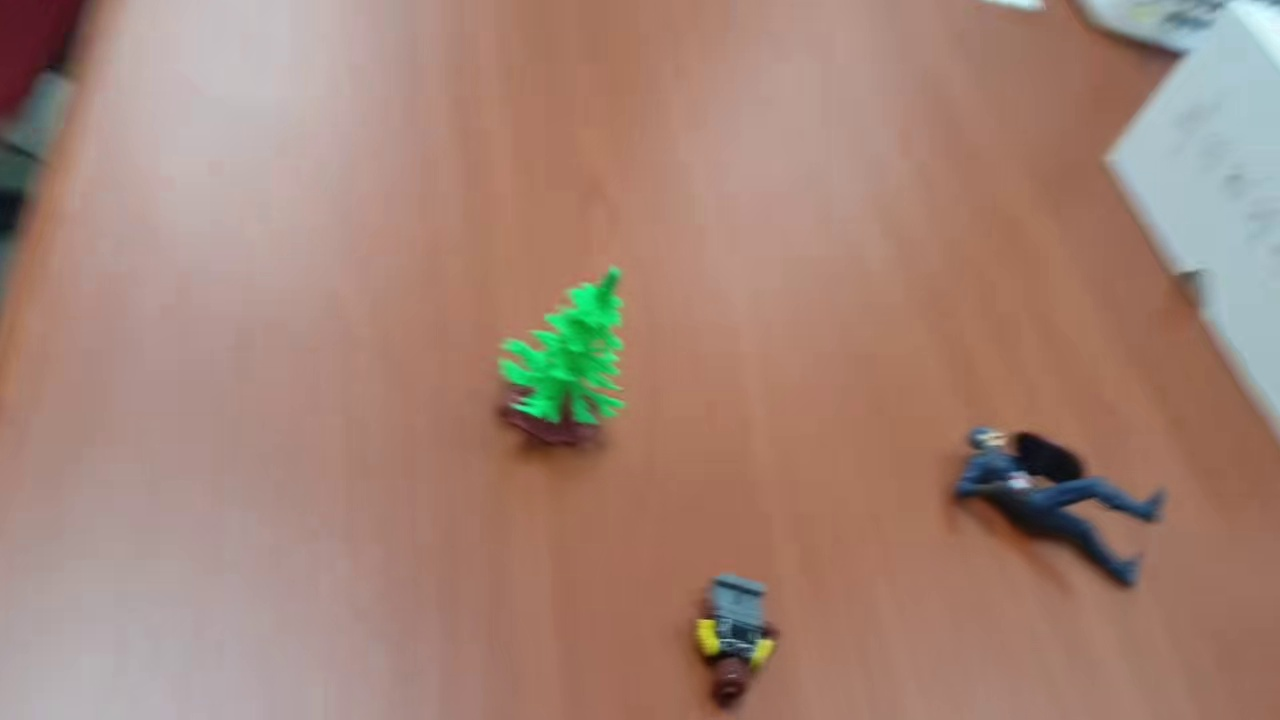people: (949, 425, 1166, 594), (688, 571, 781, 706)
tree: (495, 263, 628, 450)
